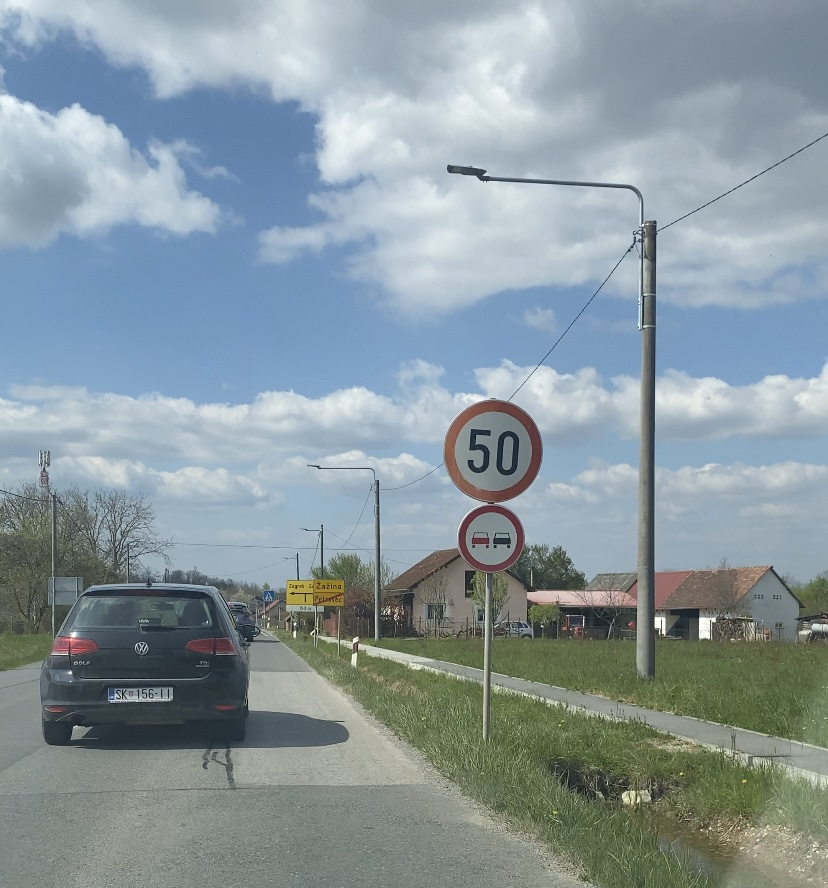Ograničenje brzine 50: (444, 399, 543, 504)
Pješački prijelaz: (263, 591, 275, 602)
Zabrana pretjecanja: (458, 505, 525, 573)
